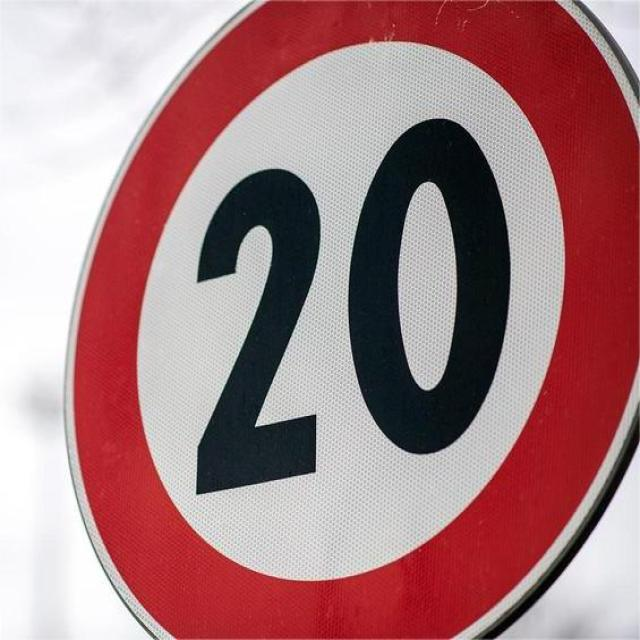speed limit 20: (60, 0, 640, 640)
